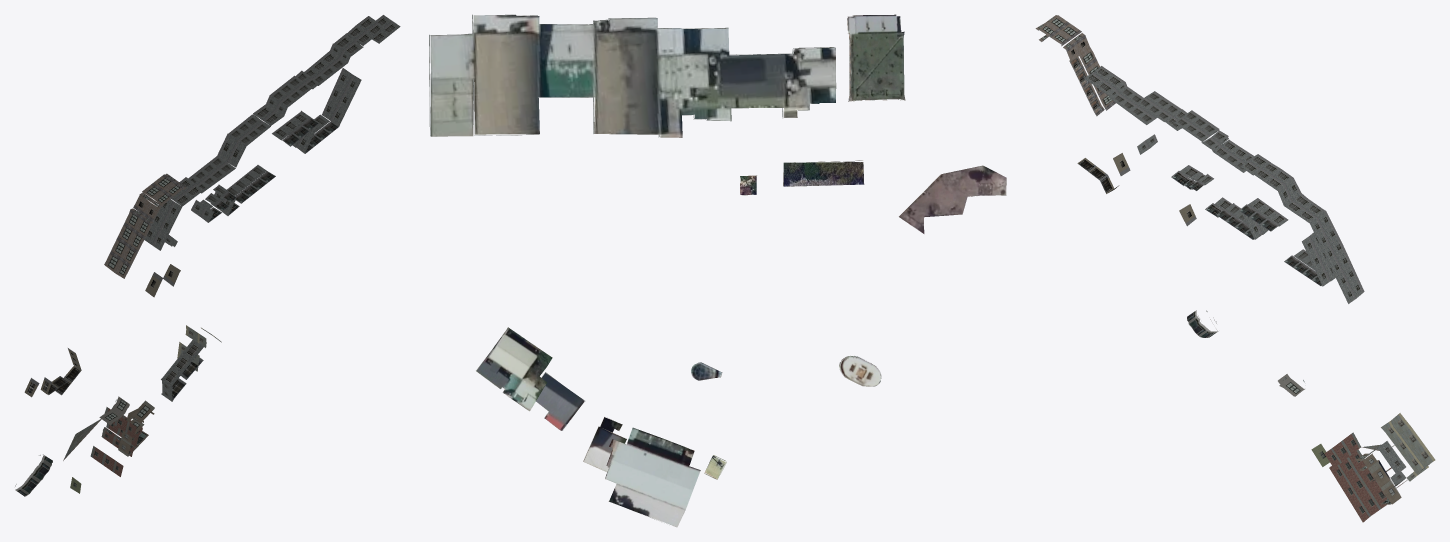
The model's file is tile_LOD4_r14_c7.glb.
3 renders of one model, left to right at view 1: azimuth 30°, elevation 25°; view 2: azimuth 150°, elevation 25°; view 3: azimuth 270°, elevation 25°, orthographic. The views are drawn at different scales.
Bounding box in the file's own units: 179 × 161 × 124.
Materials: 43 (43 with a texture image).
